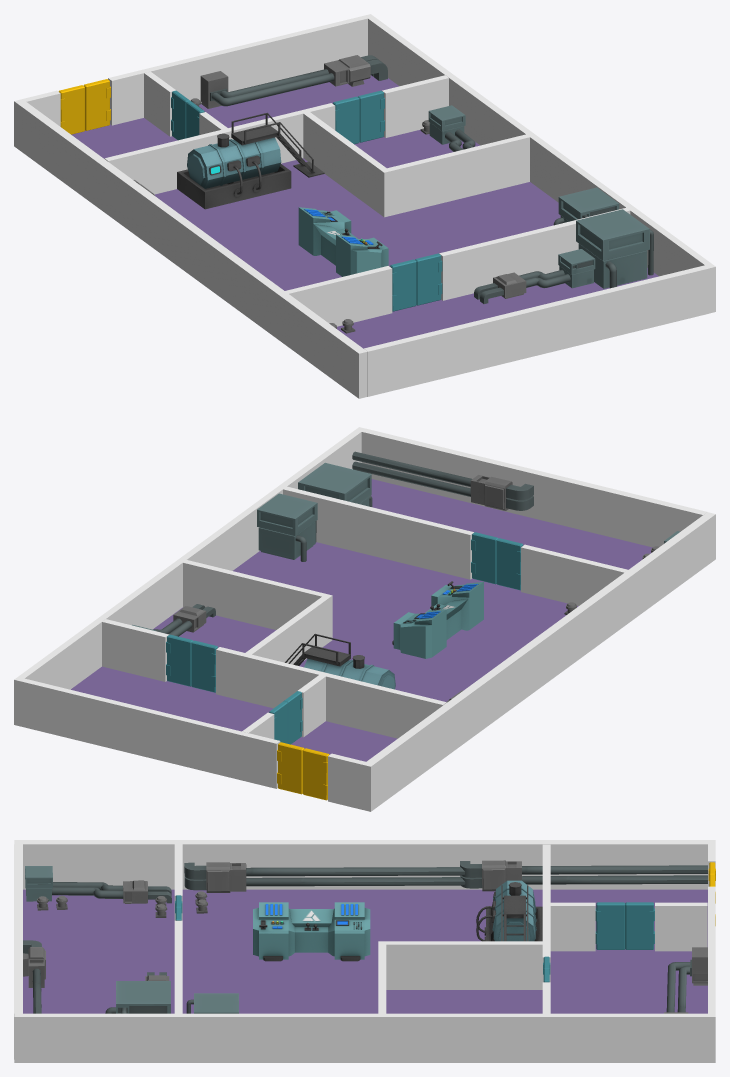
Rendered from maps_45.fbx.
3 renders of one model, top to bottom at view 1: azimuth 30°, elevation 25°; view 2: azimuth 150°, elevation 25°; view 3: azimuth 270°, elevation 25°, orthographic.
Parts seen in each view (by area): view 1: wall_01_08_geo, wall_01_07_geo, wall_01_05_geo, wall_01_06_geo, wall_01_09_geo, tankwater_geo, wall_01_09_geo12, wall_01_09_geo3, wall_01_09_geo6, generatorStation_05_geo1, wall_01_09_geo11, wall_01_11_geo9 (+12 smaller); view 2: wall_01_08_geo, wall_01_07_geo, wall_01_09_geo, wall_01_05_geo, wall_01_06_geo, wall_01_09_geo6, wall_01_09_geo3, wall_01_09_geo12, table_01_geo1, wall_01_09_geo11, generatorStation_03_geo5, generatorStation_05_geo3 (+11 smaller); view 3: wall_01_08_geo, wall_01_06_geo, wall_01_07_geo, wall_01_11_geo9, table_01_geo1, generatorStation_03_geo3, generatorStation_03_geo2, tankwater_geo, generatorStation_04_geo, wall_01_11_geo8, wall_01_11_geo10, generatorStation_05_geo1 (+11 smaller).
Boxes of the visible parts, x1,y1,x2,y2 form: wall_01_08_geo: (71,75,658,348); wall_01_07_geo: (14,99,367,398); wall_01_05_geo: (364,265,709,396); wall_01_06_geo: (364,14,715,313); wall_01_09_geo: (108,15,367,125); tankwater_geo: (177,112,324,209); wall_01_09_geo12: (380,134,529,217); wall_01_09_geo3: (439,207,630,300); wall_01_09_geo6: (104,103,335,194); generatorStation_05_geo1: (576,209,653,288); wall_01_09_geo11: (285,266,392,326); wall_01_11_geo9: (303,112,386,213); wall_01_08_geo: (71,479,652,761); wall_01_07_geo: (362,512,715,811); wall_01_09_geo: (20,678,280,788); wall_01_05_geo: (361,428,706,547); wall_01_06_geo: (14,427,365,726); wall_01_09_geo6: (216,647,446,738); wall_01_09_geo3: (283,486,473,579); wall_01_09_geo12: (183,560,332,642); table_01_geo1: (392,581,483,658); wall_01_09_geo11: (521,544,627,605); generatorStation_03_geo5: (352,451,533,510); generatorStation_05_geo3: (257,493,317,561); wall_01_08_geo: (23,889,707,1013); wall_01_06_geo: (14,1013,715,1062); wall_01_07_geo: (14,840,715,889); wall_01_11_geo9: (386,941,543,989); table_01_geo1: (253,902,370,961); generatorStation_03_geo3: (184,862,465,892); generatorStation_03_geo2: (460,860,707,891); tankwater_geo: (476,880,542,941); generatorStation_04_geo: (25,866,171,903); wall_01_11_geo8: (655,902,707,951); wall_01_11_geo10: (550,902,595,951); generatorStation_05_geo1: (105,981,170,1013).
Bounding box in the file's own units: 73.34 × 12.5 × 123.
Materials: 5 (5 with a texture image).
